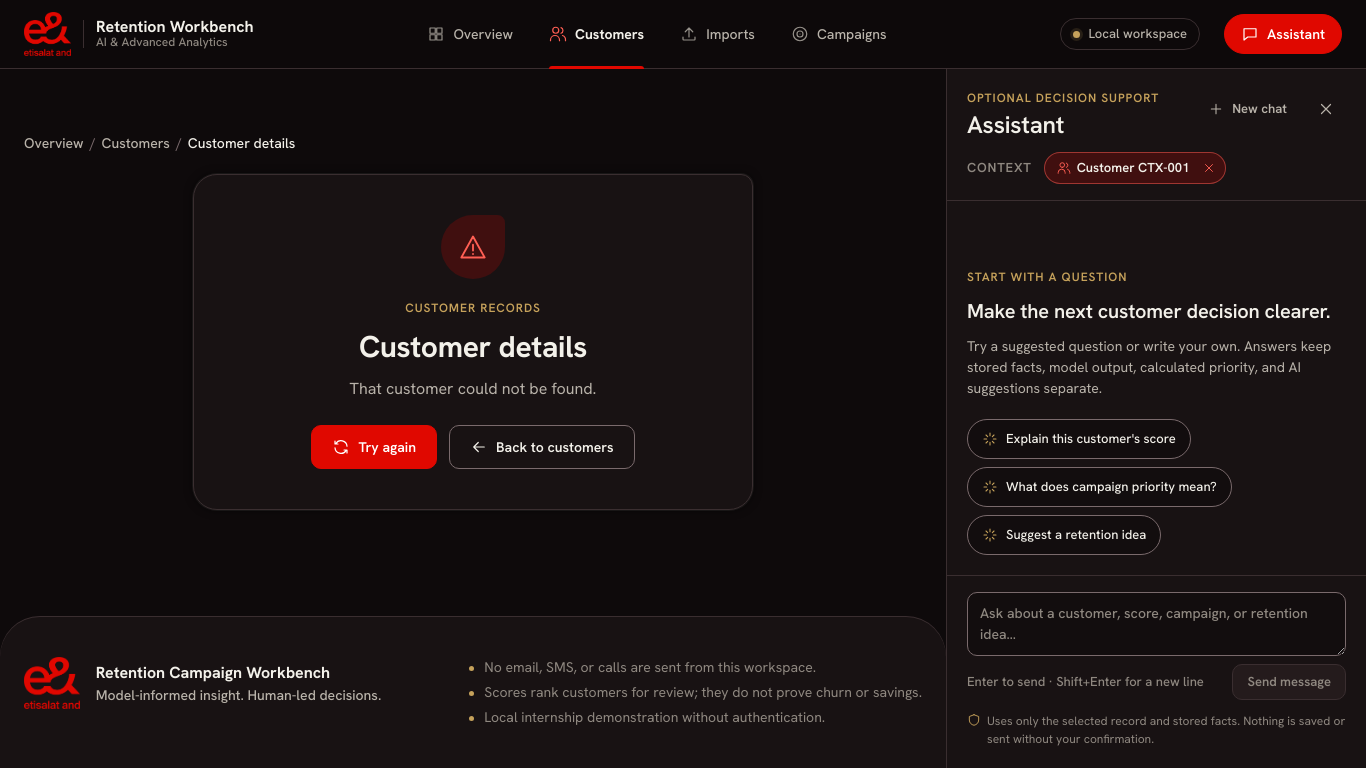
it: chat browser journey › keeps explicit customer context and labels grounded answer sections
The width and height of the screenshot is (1366, 768).
Expected: the heading "Assistant" is shown, top-left (967, 109), bottom-right (1064, 140)
Expected: the text "Customer CTX-001" is shown, top-left (1077, 158), bottom-right (1189, 178)
Type "What should I review?" into the text box named "Message the assistant" at (1156,624), box top-left (967, 592), bottom-right (1346, 656)
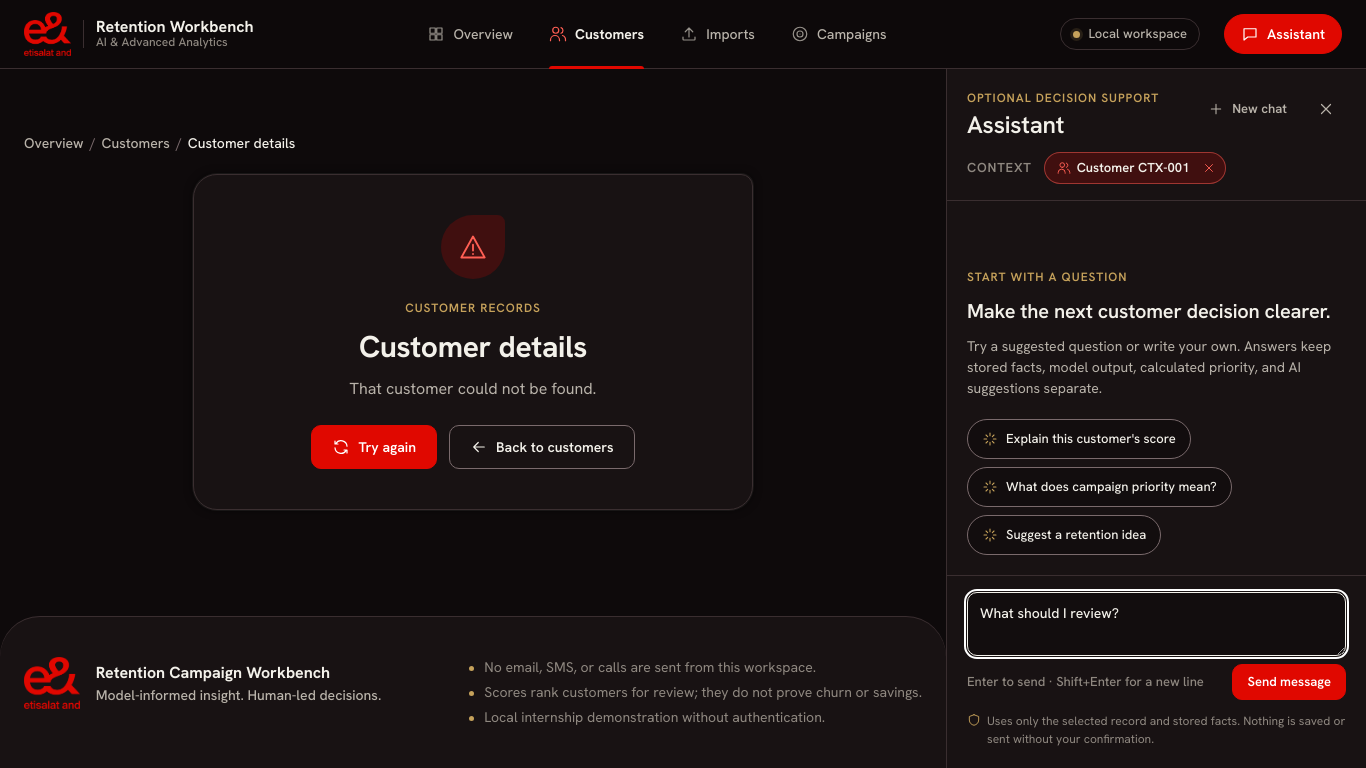
Expected: the button "Send message" is enabled
Click the button "Send message" at (1289,682), box top-left (1232, 664), bottom-right (1346, 700)
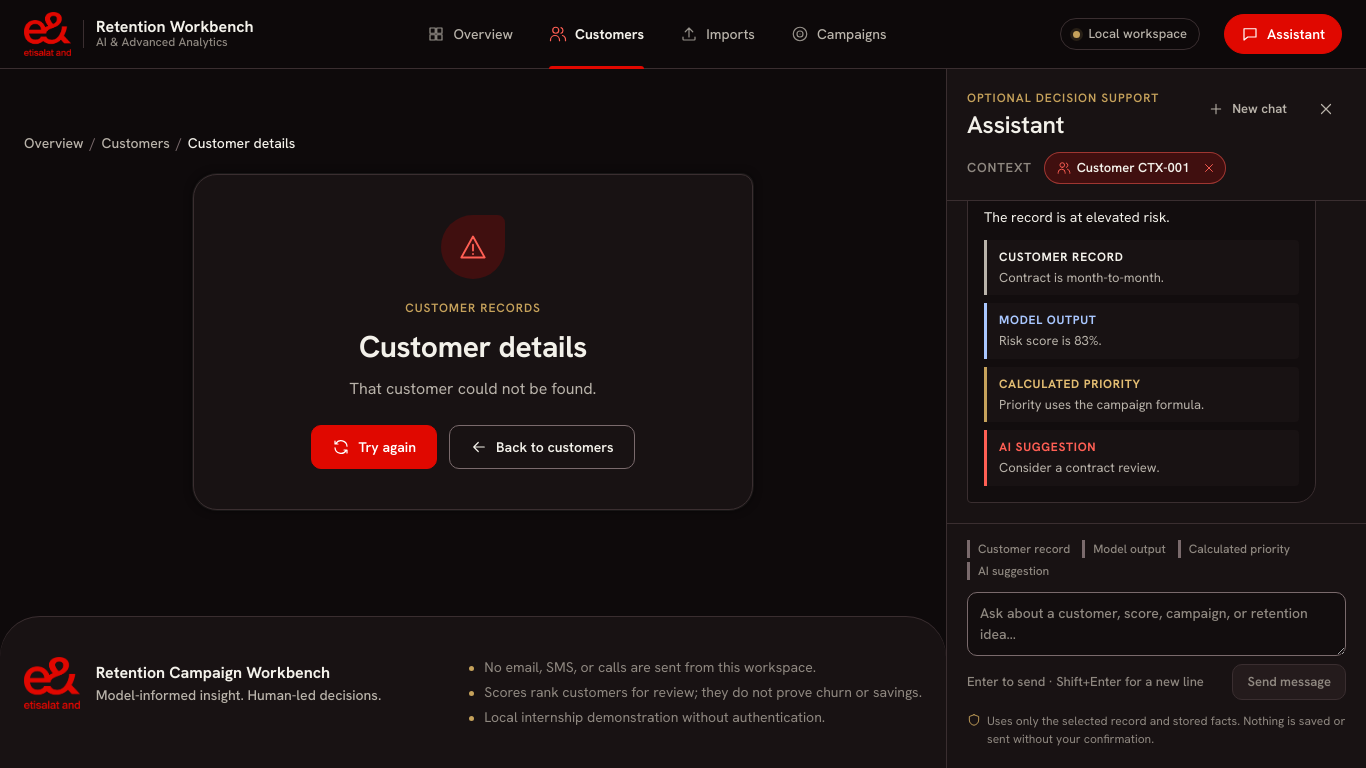
Expected: the text "The record is at elevated risk." is shown, top-left (984, 208), bottom-right (1170, 226)
Expected: the text "Customer record" below "The record is at elevated risk." is shown, top-left (999, 249), bottom-right (1124, 265)
Expected: the text "Model output" below "Contract is month-to-month." is shown, top-left (999, 312), bottom-right (1097, 328)
